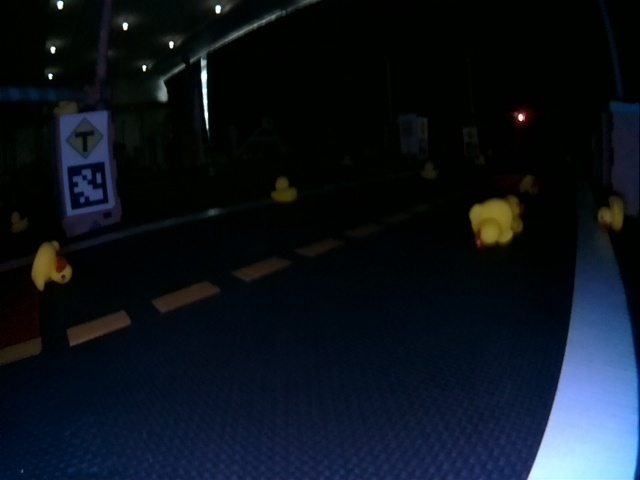Duckie: (471, 199, 511, 243), (33, 241, 71, 287), (599, 200, 624, 227), (272, 178, 295, 201), (8, 210, 28, 232), (520, 175, 537, 194), (422, 164, 437, 178)
Intersection sign: (64, 115, 105, 161)
QR code: (67, 165, 109, 212)
Traffic light: (515, 110, 526, 123)
